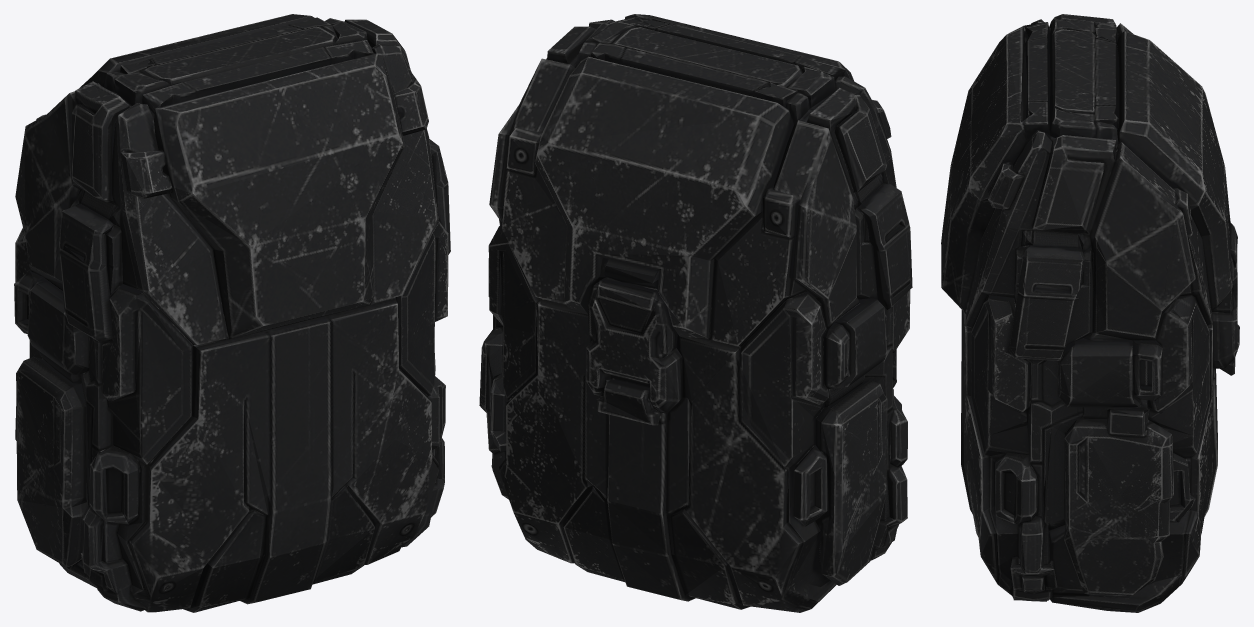
Rendered from backpack.glb.
3 views of the same model, side by side, from view 1: azimuth 30°, elevation 25°; view 2: azimuth 150°, elevation 25°; view 3: azimuth 270°, elevation 25° (orthographic). The views are drawn at different scales.
Parts seen in each view (by area): view 1: backpack; view 2: backpack; view 3: backpack.
Boxes of the visible parts, x1,y1,x2,y2 form: backpack: [14, 14, 450, 612]; backpack: [479, 14, 912, 612]; backpack: [941, 14, 1239, 612].
Bounding box in the file's own units: 0.3241 × 0.44 × 0.2423.
Materials: 1 (1 with a texture image).
